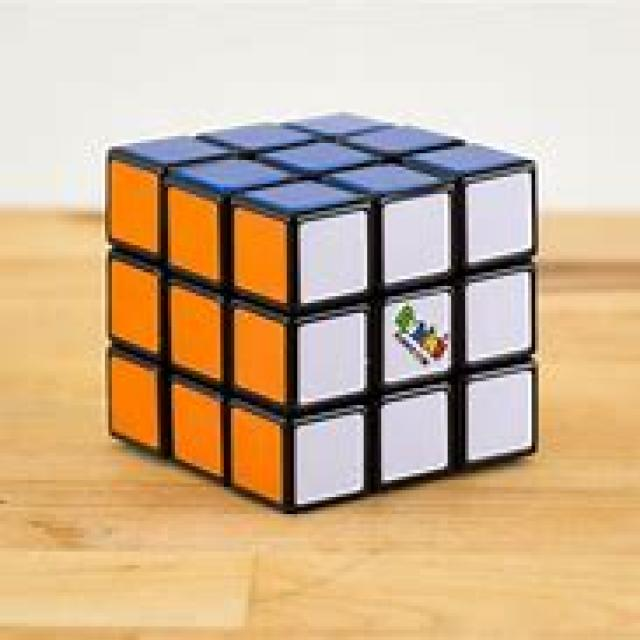cube: (104, 111, 540, 513)
